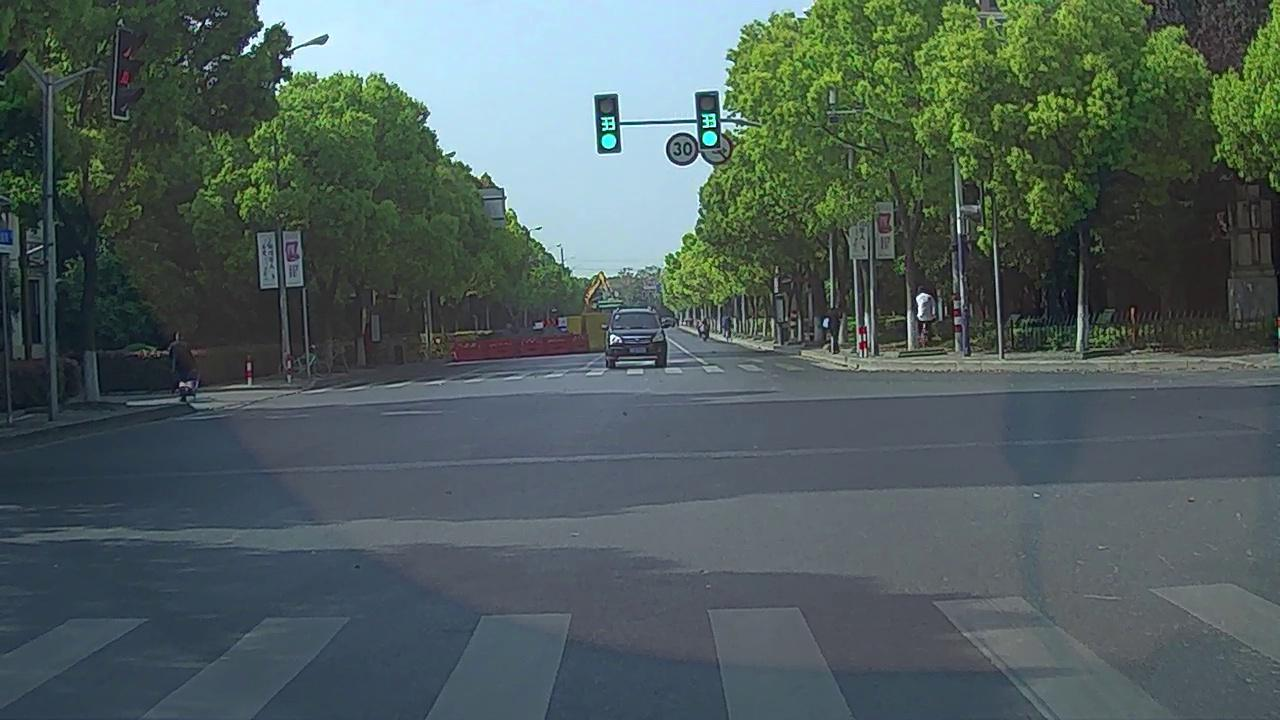traffic_light: (696, 86, 720, 152), (596, 95, 619, 154)
